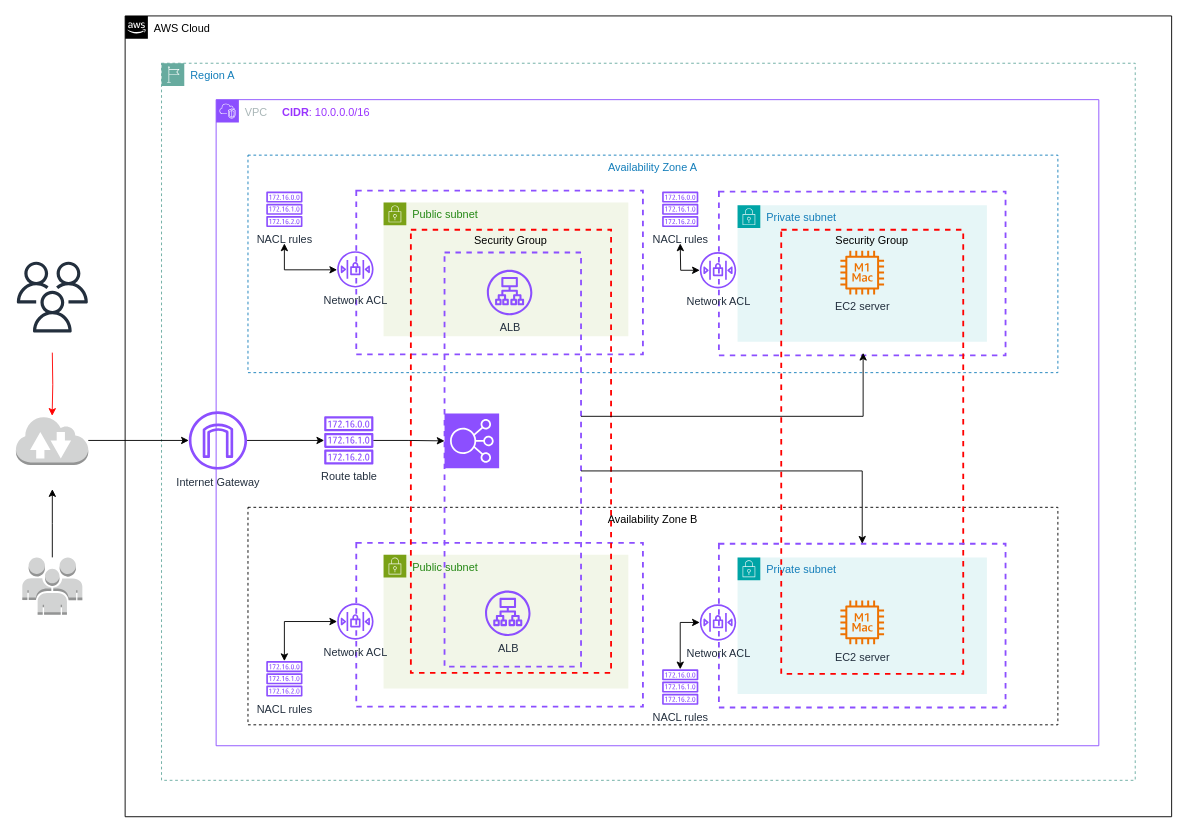
The diagram is 1188 pixels wide and 833 high, and some of its shapes have lost their labels. Each missing label, with the centre of its shape:
Attackers: [51,296]
ELB: [471,440]
Internet: [51,440]
Users: [51,585]
